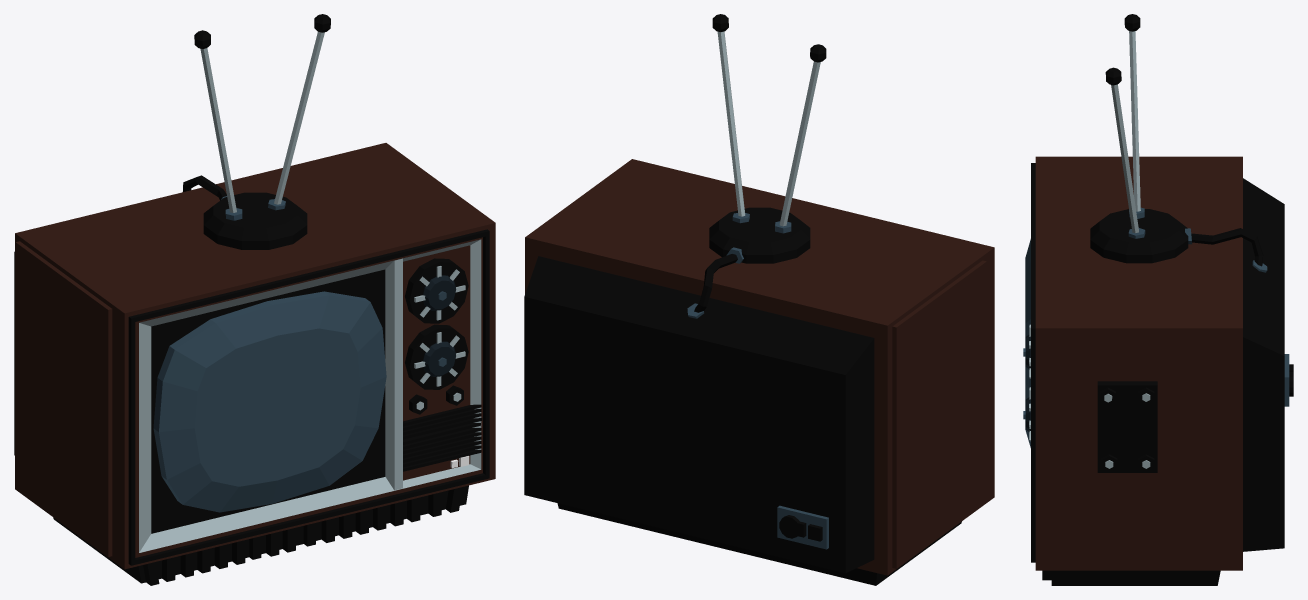
File: TV retro 1.fbx
3 renders of one model, left to right at view 1: azimuth 30°, elevation 25°; view 2: azimuth 150°, elevation 25°; view 3: azimuth 270°, elevation 25°, orthographic. The views are drawn at different scales.
Visible parts, largest first — view 1: group926842016, group47669117, group1507732589, group1117102901, group310550301, group270195480, group2011111715, group993591691, group2019339649, group2017288429, group867327657, group1800594314 (+3 smaller); view 2: group466038209, group926842016, group1507732589, group310550301, group867327657, group2067760130, group1393598046, group1277734885, group1247399666; view 3: group926842016, group466038209, group1476588037, group310550301, group867327657, group1393598046, group162753495, group2067760130, group1247399666, group2019339649, group47669117.
Part boxes in pixels (left/top/right/bottom): group926842016: left=15, top=143, right=495, bottom=569; group47669117: left=153, top=291, right=386, bottom=512; group1507732589: left=15, top=241, right=112, bottom=556; group1117102901: left=403, top=245, right=470, bottom=480; group310550301: left=203, top=192, right=307, bottom=249; group270195480: left=385, top=258, right=402, bottom=490; group2011111715: left=405, top=258, right=468, bottom=323; group993591691: left=405, top=324, right=468, bottom=389; group2019339649: left=129, top=229, right=489, bottom=322; group2017288429: left=128, top=473, right=489, bottom=565; group867327657: left=53, top=485, right=468, bottom=583; group1800594314: left=128, top=317, right=135, bottom=565; group466038209: left=524, top=256, right=874, bottom=573; group926842016: left=525, top=159, right=994, bottom=575; group1507732589: left=892, top=260, right=986, bottom=568; group310550301: left=709, top=207, right=810, bottom=263; group867327657: left=557, top=503, right=961, bottom=585; group2067760130: left=717, top=31, right=745, bottom=216; group1393598046: left=779, top=61, right=820, bottom=226; group1277734885: left=777, top=505, right=828, bottom=549; group1247399666: left=694, top=254, right=737, bottom=312; group926842016: left=1035, top=156, right=1242, bottom=570; group466038209: left=1243, top=178, right=1284, bottom=551; group1476588037: left=1097, top=381, right=1157, bottom=472; group310550301: left=1090, top=209, right=1188, bottom=263; group867327657: left=1051, top=570, right=1220, bottom=585; group1393598046: left=1129, top=31, right=1140, bottom=211; group162753495: left=1031, top=326, right=1035, bottom=562; group2067760130: left=1111, top=84, right=1138, bottom=233; group1247399666: left=1191, top=228, right=1263, bottom=266; group2019339649: left=1031, top=163, right=1035, bottom=332; group47669117: left=1025, top=239, right=1030, bottom=447.
Bounding box in the file's own units: 0.9287 × 1.12 × 0.5868.
